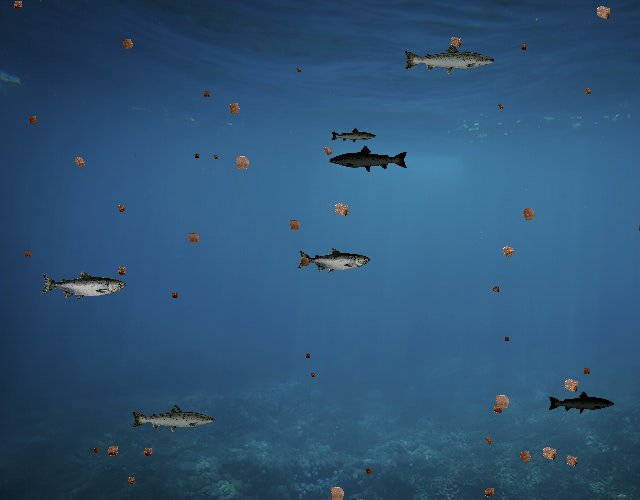Fish: (403, 42, 497, 76), (130, 403, 216, 434), (40, 270, 126, 301), (329, 145, 410, 174), (297, 247, 370, 274), (547, 391, 615, 415), (330, 128, 377, 145)
Pellet: (516, 201, 542, 227), (496, 239, 521, 264), (68, 151, 90, 173), (488, 282, 502, 296), (516, 40, 530, 54), (210, 152, 220, 162)
